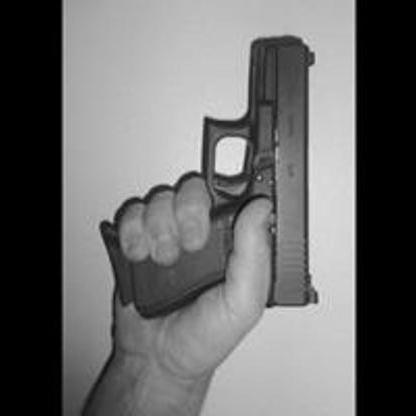weapon: (96, 28, 319, 322)
